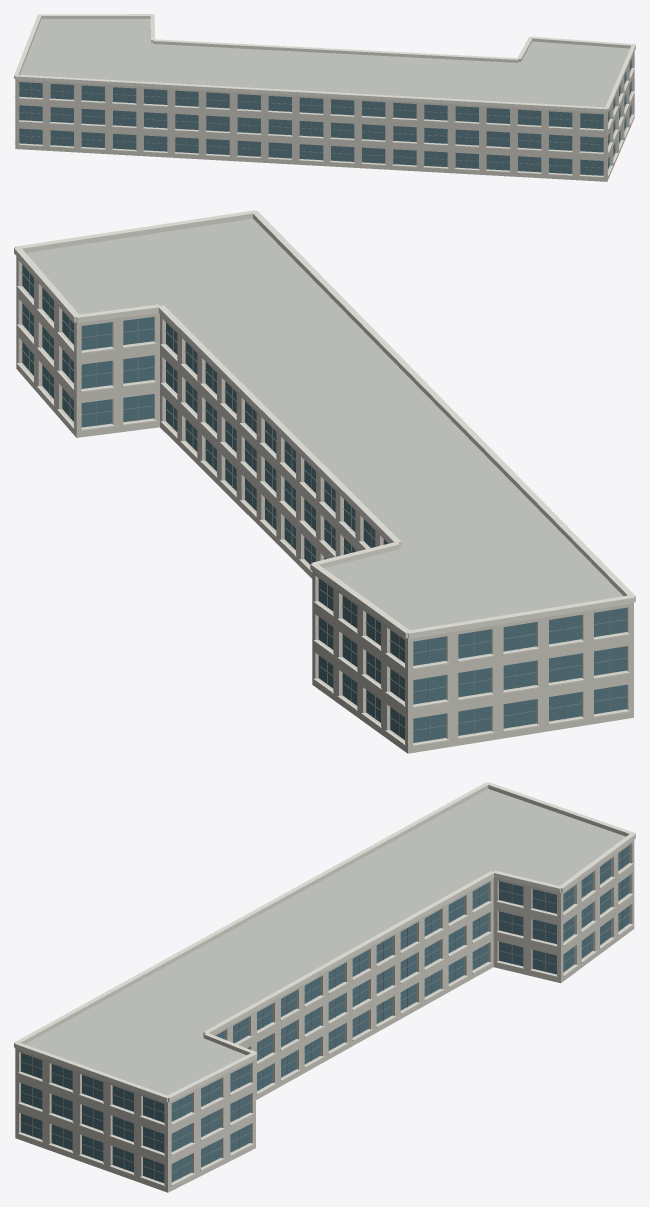
The picture shows the model from 3 angles, top to bottom: view 1: azimuth 30°, elevation 25°; view 2: azimuth 150°, elevation 25°; view 3: azimuth 270°, elevation 25°; orthographic projection. The views are drawn at different scales.
Parts seen in each view (by area): view 1: roof, wall, glass, trim, metal; view 2: roof, wall, glass, trim, metal; view 3: roof, wall, glass, trim, metal.
Boxes of the visible parts, x1,y1,x2,y2 form: roof: [20, 19, 629, 107]; wall: [15, 52, 634, 181]; glass: [19, 59, 631, 175]; trim: [14, 14, 635, 177]; metal: [19, 60, 631, 174]; roof: [26, 218, 623, 630]; wall: [16, 256, 633, 753]; glass: [22, 265, 626, 742]; trim: [14, 210, 635, 746]; metal: [21, 273, 627, 740]; roof: [25, 789, 625, 1095]; wall: [15, 840, 634, 1192]; glass: [21, 845, 629, 1182]; trim: [14, 782, 635, 1186]; metal: [20, 850, 629, 1180].
Size of the model in its own units: 69.35 by 9.74 by 57.68.
